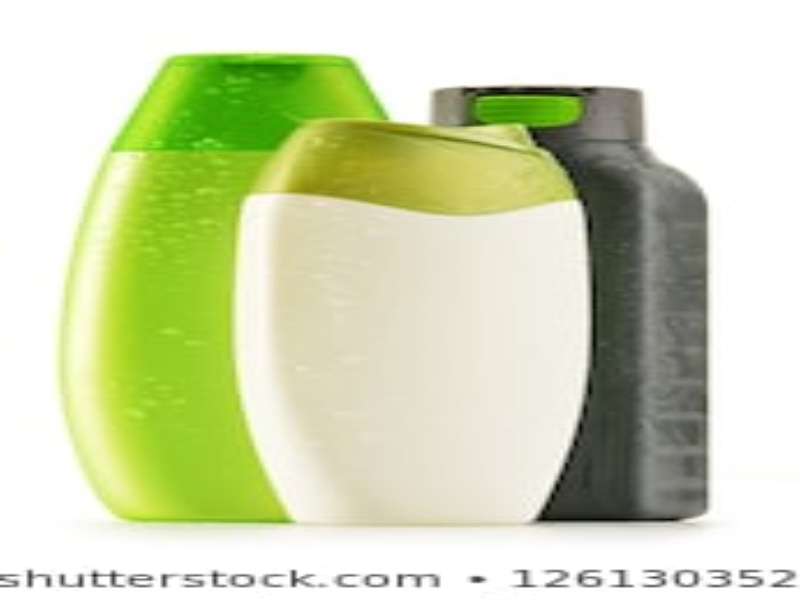shampoo-bottle: (58, 52, 383, 525), (229, 116, 585, 527), (424, 79, 728, 519)
